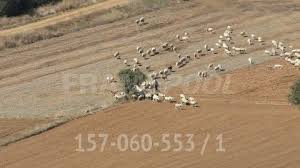sheep: (152, 92, 162, 104), (165, 93, 177, 103), (271, 63, 284, 72), (173, 102, 185, 111), (187, 98, 198, 107), (109, 72, 117, 84), (205, 26, 216, 34), (262, 47, 271, 56), (201, 69, 209, 79), (209, 45, 217, 55), (246, 55, 254, 64), (131, 55, 140, 63), (174, 59, 183, 67), (238, 29, 247, 37), (245, 37, 253, 45), (163, 66, 170, 75), (151, 45, 158, 54), (183, 30, 192, 37), (139, 15, 146, 23), (140, 50, 147, 58), (257, 35, 264, 43), (112, 50, 119, 57), (175, 33, 182, 40), (192, 52, 200, 58), (123, 58, 129, 64), (180, 56, 187, 61)
